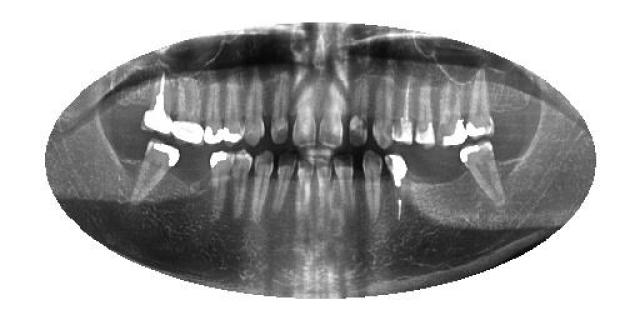Fillings: (132, 138, 180, 204), (459, 140, 506, 206), (170, 74, 204, 148), (464, 67, 496, 142), (436, 81, 466, 150), (210, 146, 236, 224), (222, 74, 244, 144), (204, 80, 224, 145)
Implant: (141, 72, 171, 138), (384, 152, 408, 222), (394, 74, 414, 145)
